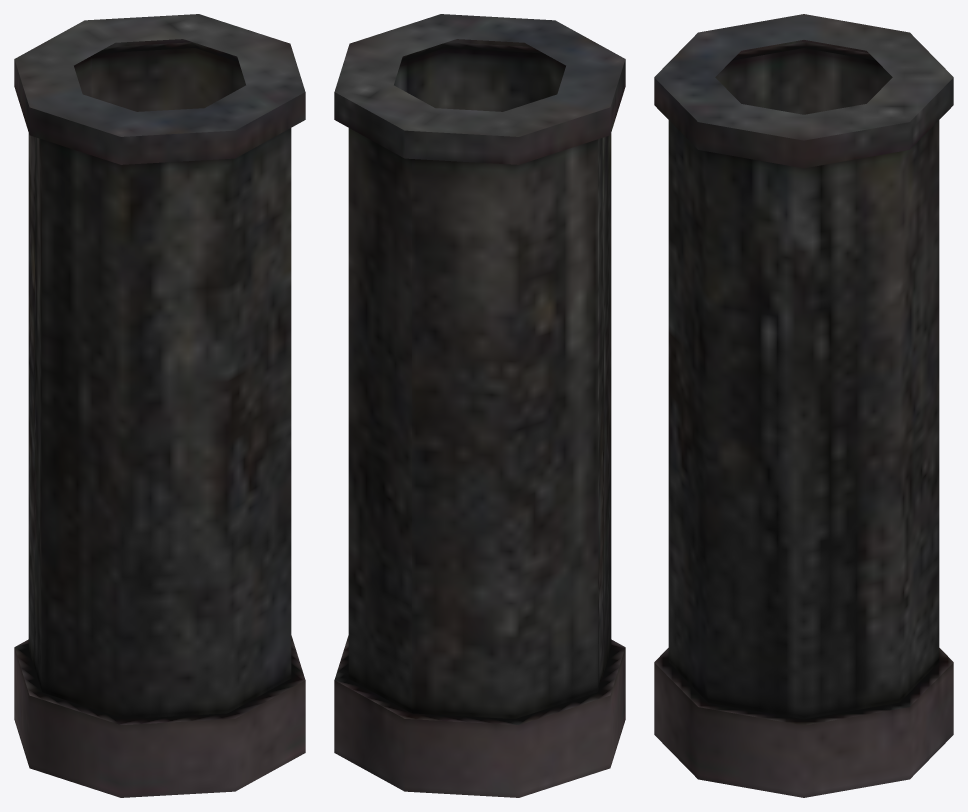
The model's file is OT_Pipe_M.FBX.
3 views of the same model, side by side, from view 1: azimuth 30°, elevation 25°; view 2: azimuth 150°, elevation 25°; view 3: azimuth 270°, elevation 25° (orthographic).
Visible parts, largest first — view 1: OT_Pipe_M; view 2: OT_Pipe_M; view 3: OT_Pipe_M.
Part boxes in pixels (bbox=[...]): OT_Pipe_M: bbox=[14, 14, 305, 797]; OT_Pipe_M: bbox=[334, 14, 625, 797]; OT_Pipe_M: bbox=[654, 14, 953, 797].
Size of the model in its own units: 29.44 by 71.27 by 29.44.
